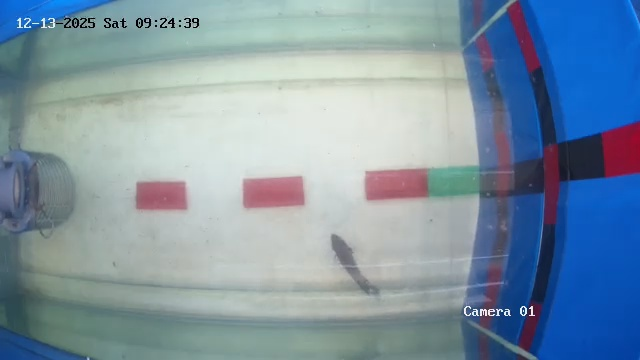fish: (327, 232, 375, 284)
